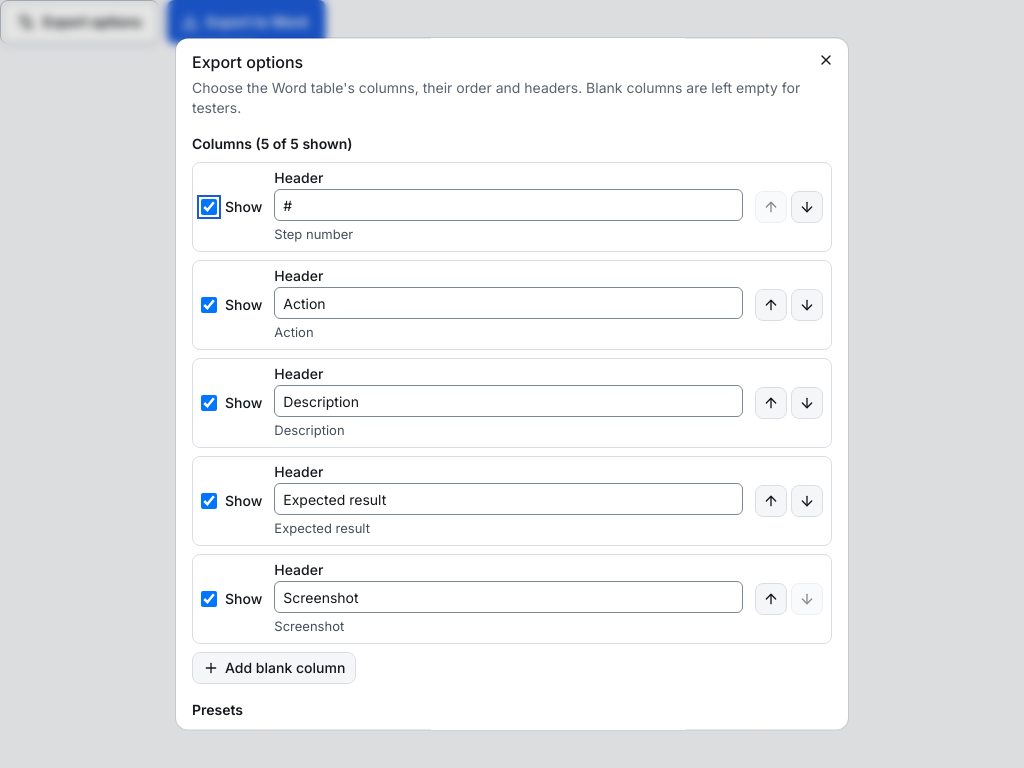
ExportOptions › renames a header, reorders, adds a blank column; Export to Word uses the template; focus returns
Earlier steps of the test are not shown.
Later steps or results of the test are not shown.
Replace the text in the field named "Header for Expected result column" with "Expected outcome": {"x": 509, "y": 499} [274,483,743,515]
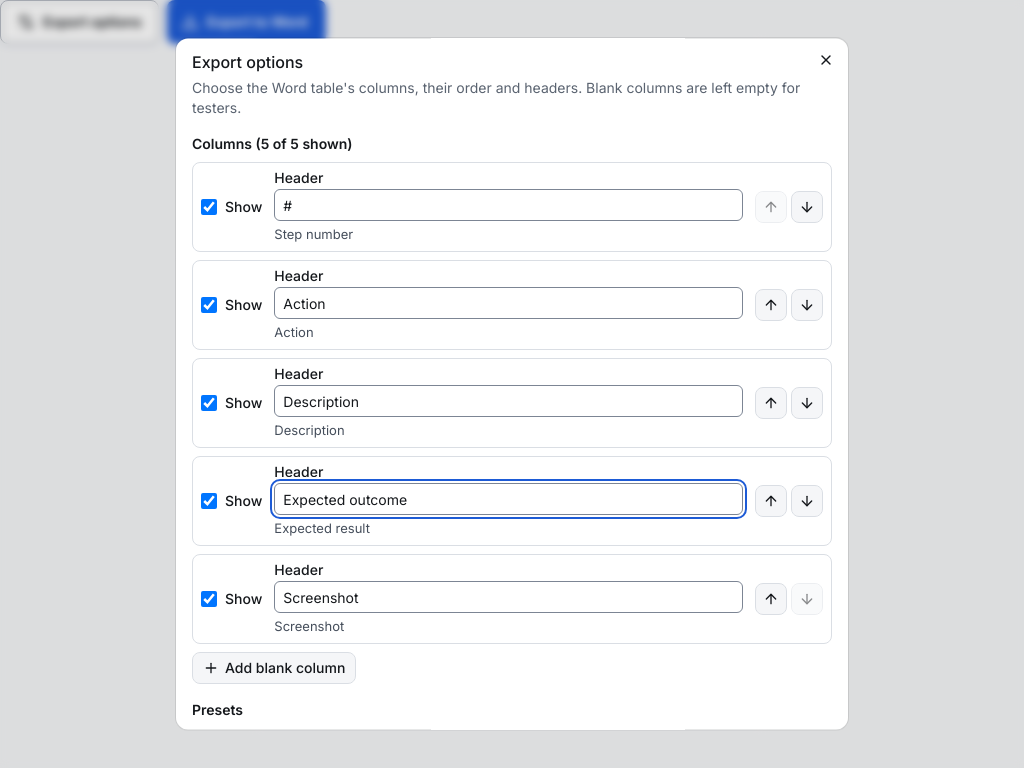
Click the button named "Move 'Screenshot' down": {"x": 807, "y": 599} [791,583,823,615]
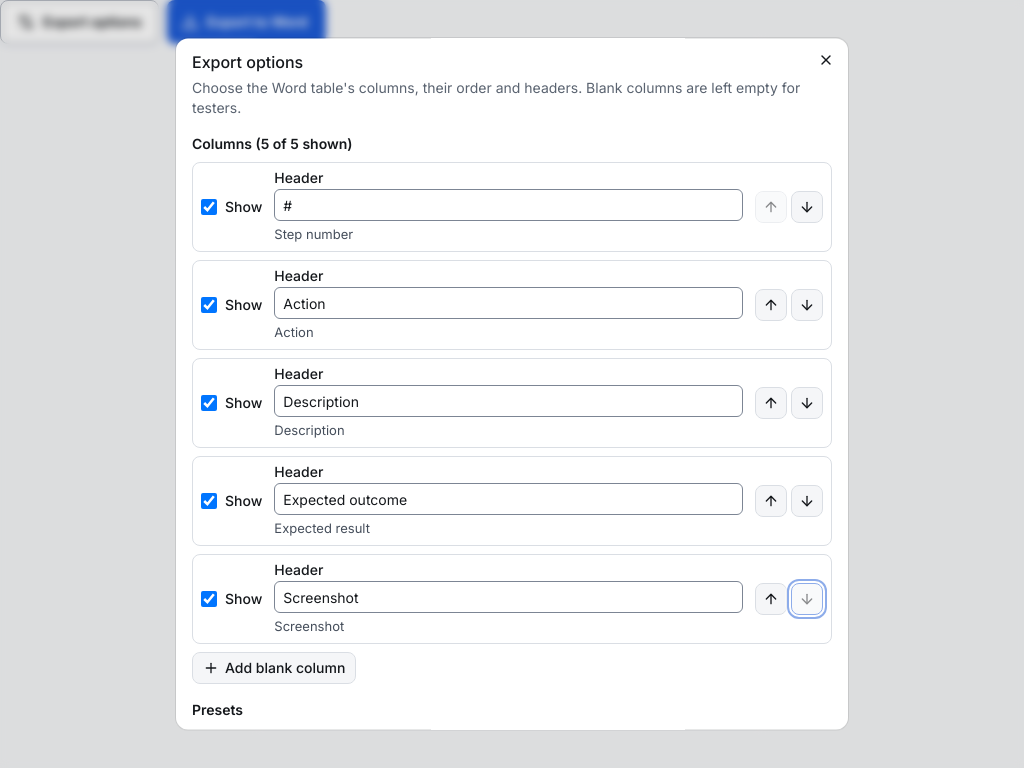
Click the button named "Move 'Screenshot' up": {"x": 771, "y": 599} [755,583,787,615]
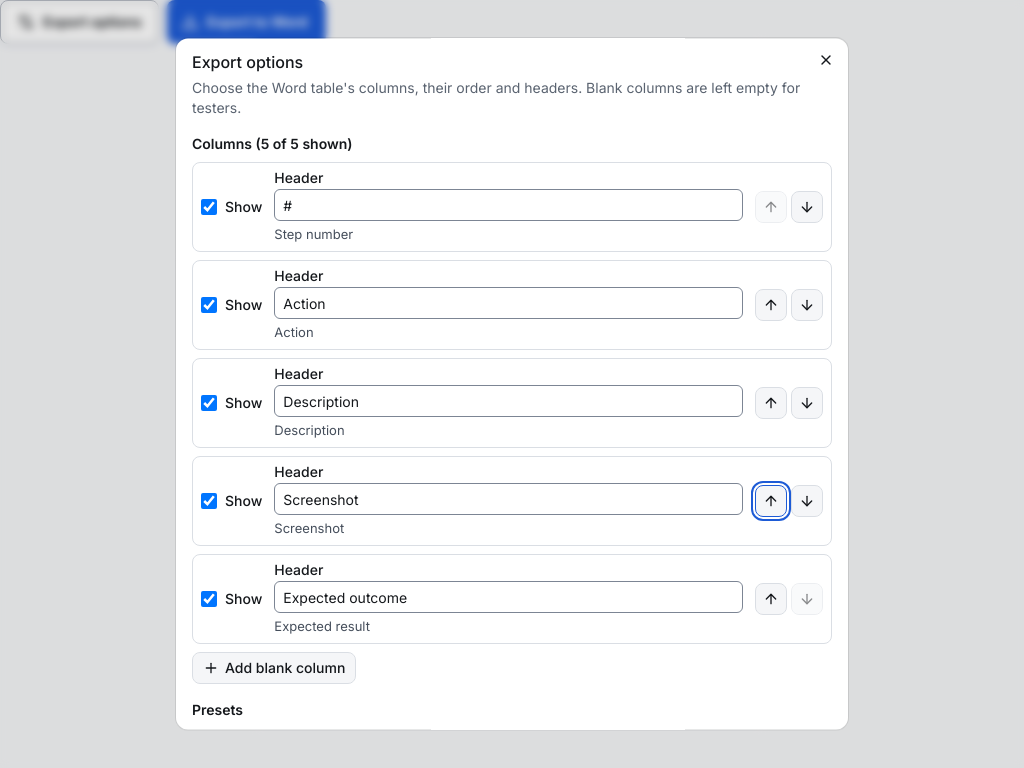
Click the button "Add blank column": {"x": 274, "y": 668} [192,652,356,684]
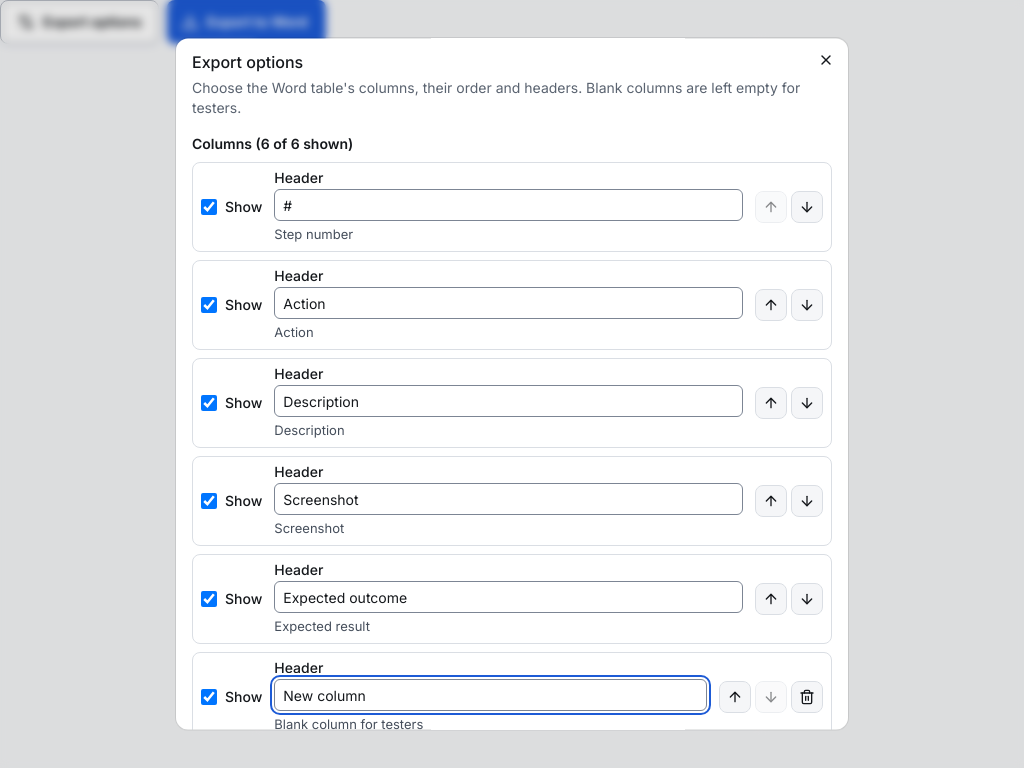
Replace the text in the field named "Header for blank column 1" with "Pass/Fail": {"x": 491, "y": 695} [274,679,707,711]
(page scrolled)
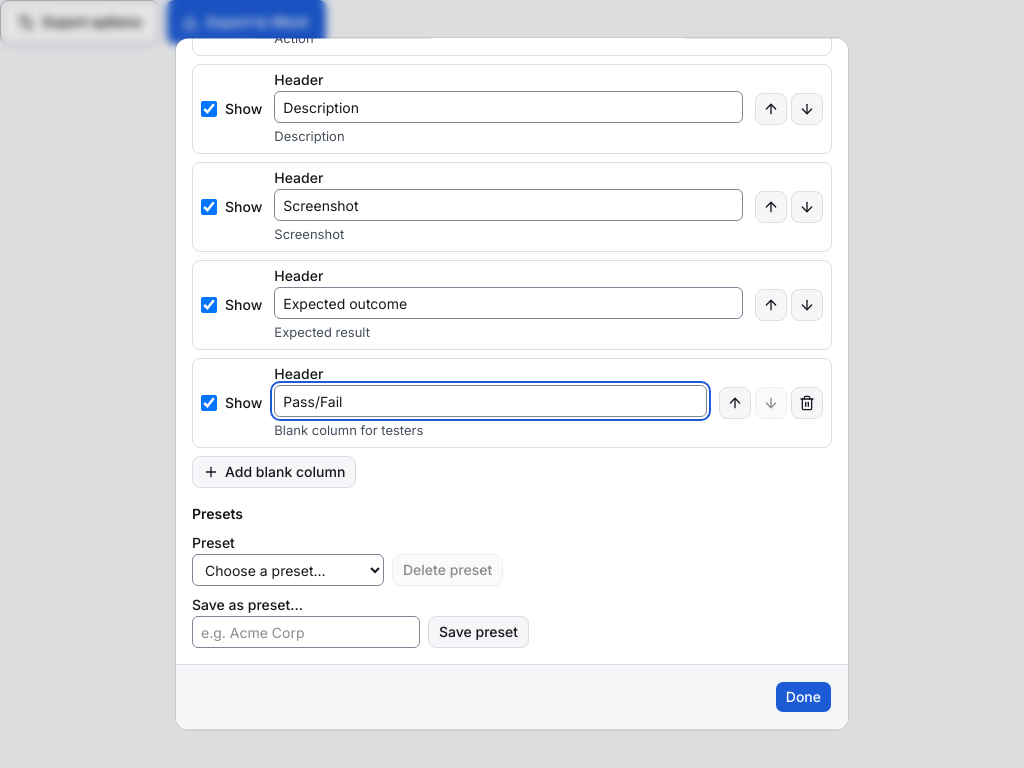
Expected: the checkbox named "Show 'Pass/Fail'" is checked, [201,395,217,411]
Expected: the button named "Remove 'Pass/Fail'" is shown, [791,387,823,419]
Click the button "Done": {"x": 803, "y": 697} [775,681,832,713]
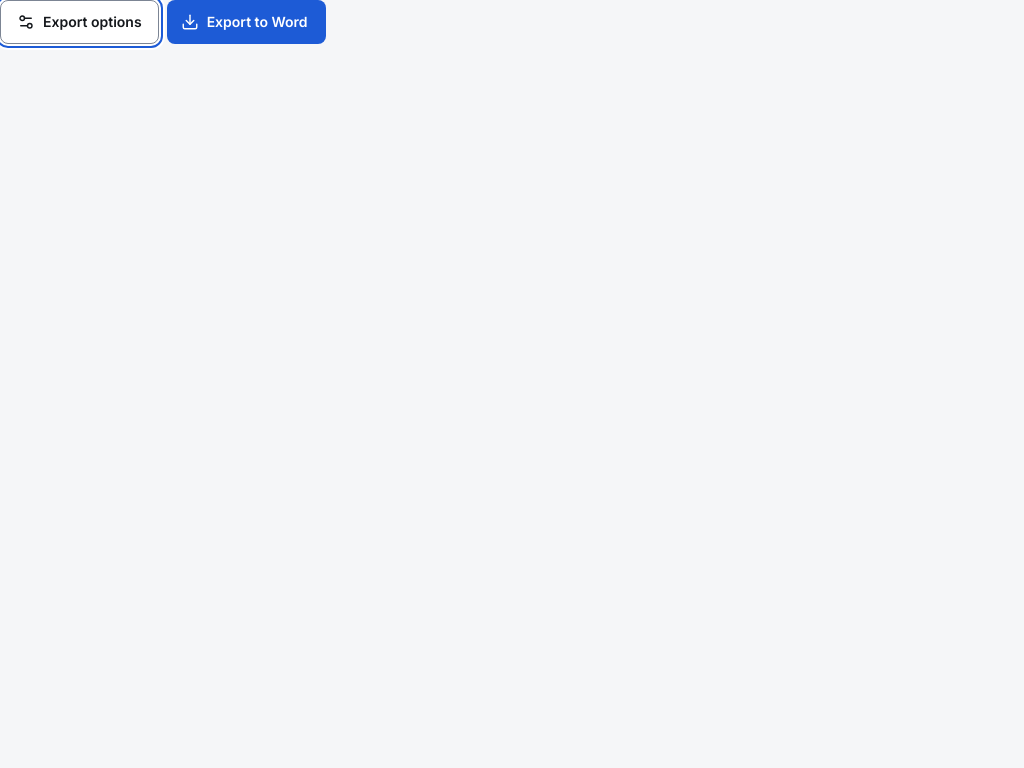
Expected: the dialog is gone
